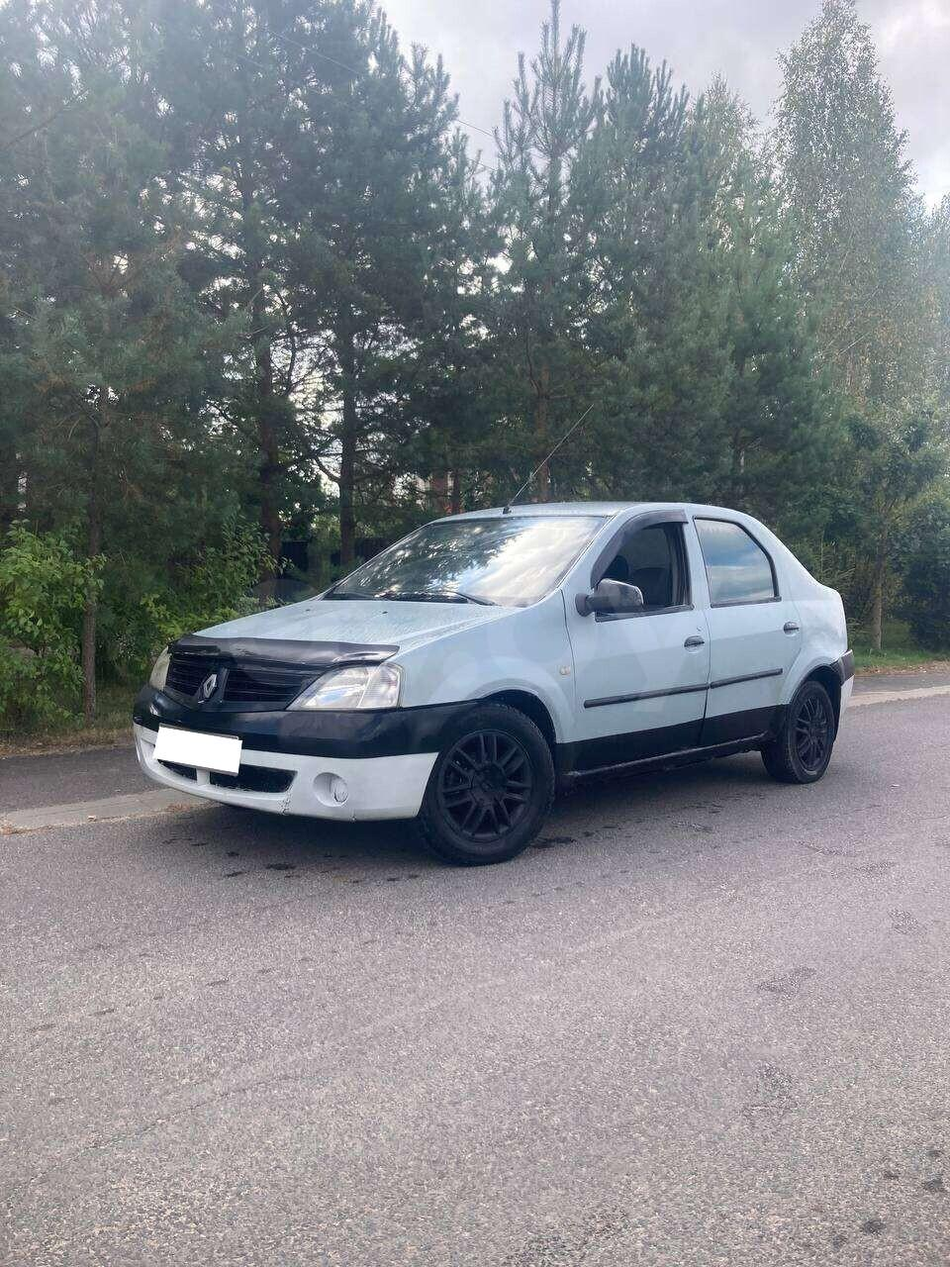Logan_2004-2009: (132, 492, 854, 866)
